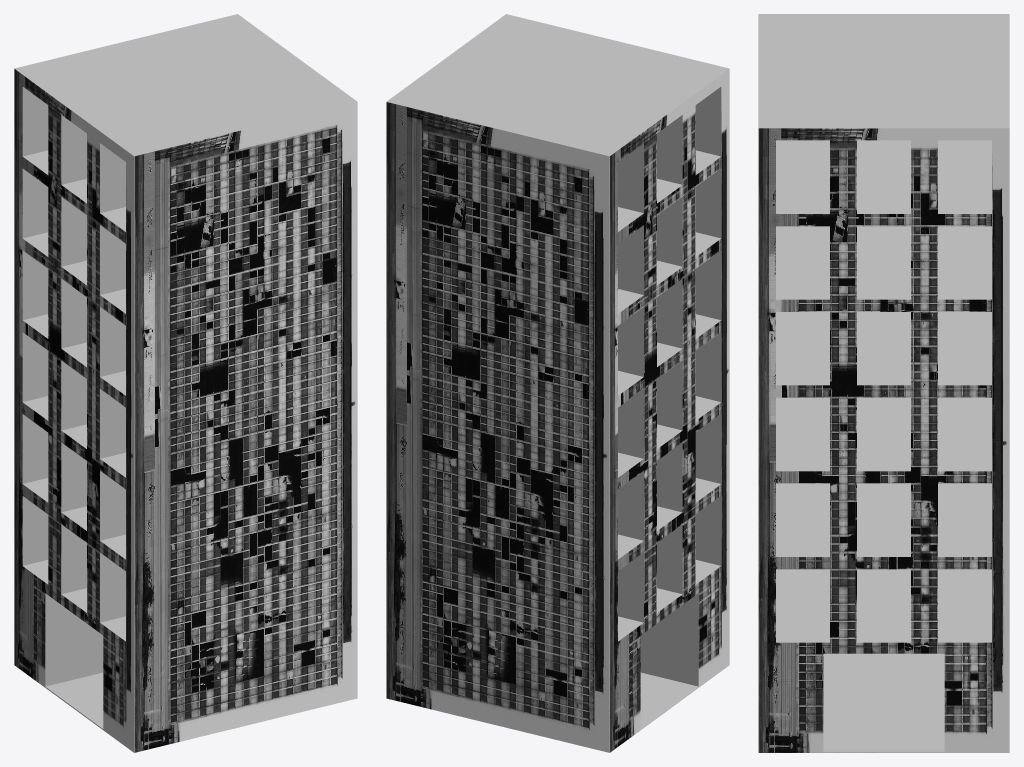
File: building1.dae
3 renders of one model, left to right at view 1: azimuth 30°, elevation 25°; view 2: azimuth 150°, elevation 25°; view 3: azimuth 270°, elevation 25°, orthographic. The views are drawn at different scales.
Parts seen in each view (by area): view 1: Face_1, Face_4, Face_5, window_3 (×6), window_1 (×6), window_2 (×6), door; view 2: Face_3, Face_4, Face_5, window_1 (×6), window_3 (×6), window_2 (×6), door; view 3: Face_2, Face_5, window_1 (×6), window_2 (×6), window_3 (×6), door.
Boxes of the visible parts, x1,y1,x2,y2 form: Face_1: (134,102,357,752); Face_4: (14,69,134,752); Face_5: (14,14,357,156); window_3 (×6): (22,87,48,584); window_1 (×6): (100,143,125,641); window_2 (×6): (61,115,86,612); door: (45,593,103,728); Face_3: (386,102,609,752); Face_4: (609,69,729,752); Face_5: (386,14,729,156); window_1 (×6): (695,87,721,584); window_3 (×6): (618,143,643,641); window_2 (×6): (657,115,682,612); door: (640,593,698,728); Face_2: (758,128,1009,752); Face_5: (758,14,1009,128); window_1 (×6): (776,140,829,642); window_2 (×6): (857,140,910,642); window_3 (×6): (938,140,991,642); door: (823,653,944,751).
Size of the model in its own units: 100 by 255 by 93.
Materials: 2 (1 with a texture image).
